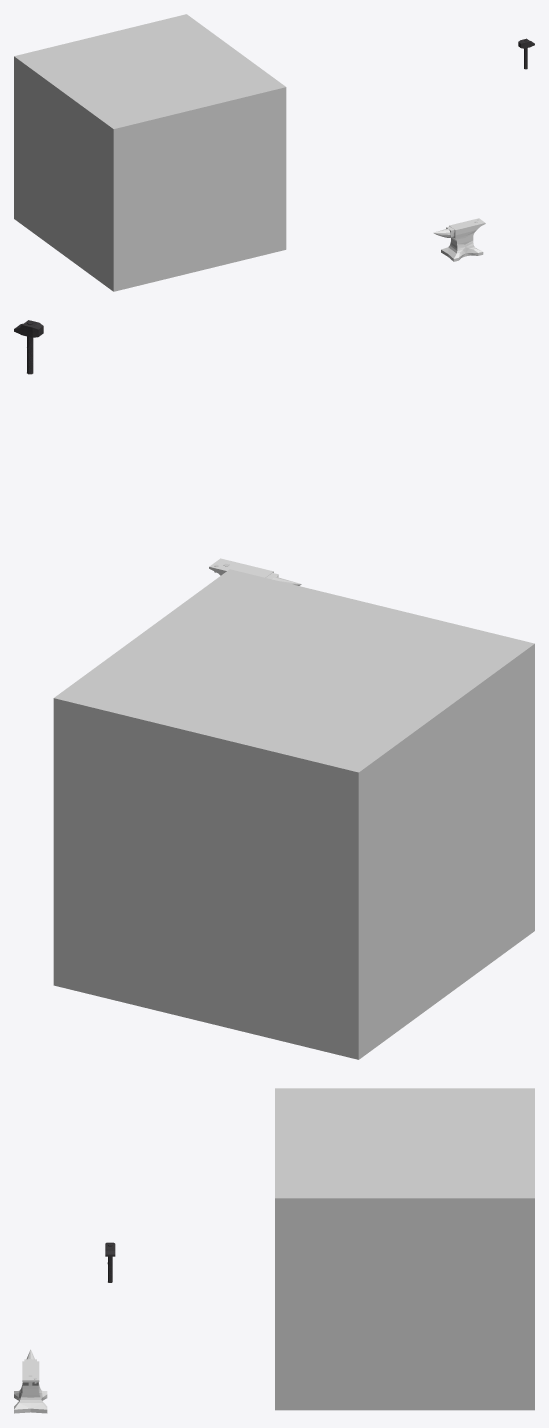
The model's file is smithshammer3.dae.
3 renders of one model, top to bottom at view 1: azimuth 30°, elevation 25°; view 2: azimuth 150°, elevation 25°; view 3: azimuth 270°, elevation 25°, orthographic. The views are drawn at different scales.
Parts seen in each view (by area): view 1: Cube_004, Cube_002; view 2: Cube_004; view 3: Cube_004, Cube_002.
Part boxes in pixels (left/top/right/bottom): Cube_004: left=14, top=14, right=286, bottom=291; Cube_002: left=433, top=218, right=485, bottom=261; Cube_004: left=53, top=569, right=534, bottom=1059; Cube_004: left=275, top=1088, right=534, bottom=1410; Cube_002: left=14, top=1349, right=47, bottom=1413.
Size of the model in its own units: 4.12 by 4.01 by 2.36.
Materials: 2 (2 with a texture image).
